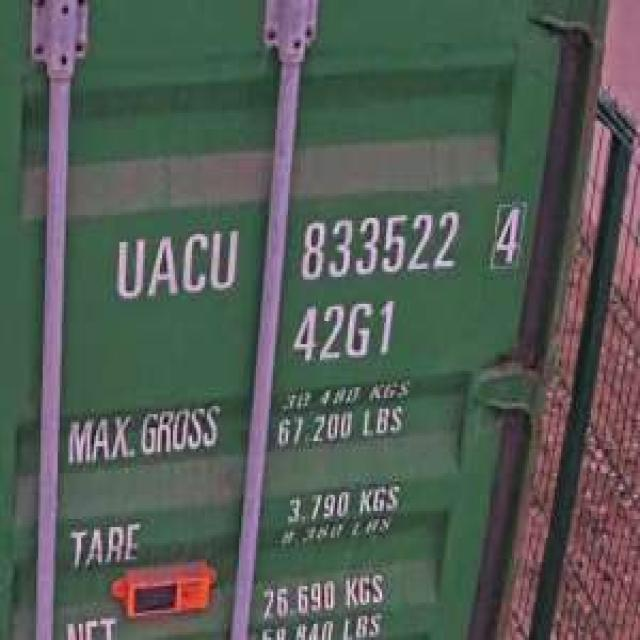dv: (484, 194, 527, 274)
owner: (107, 220, 241, 306)
serial: (290, 202, 463, 285)
size: (286, 293, 399, 369)
